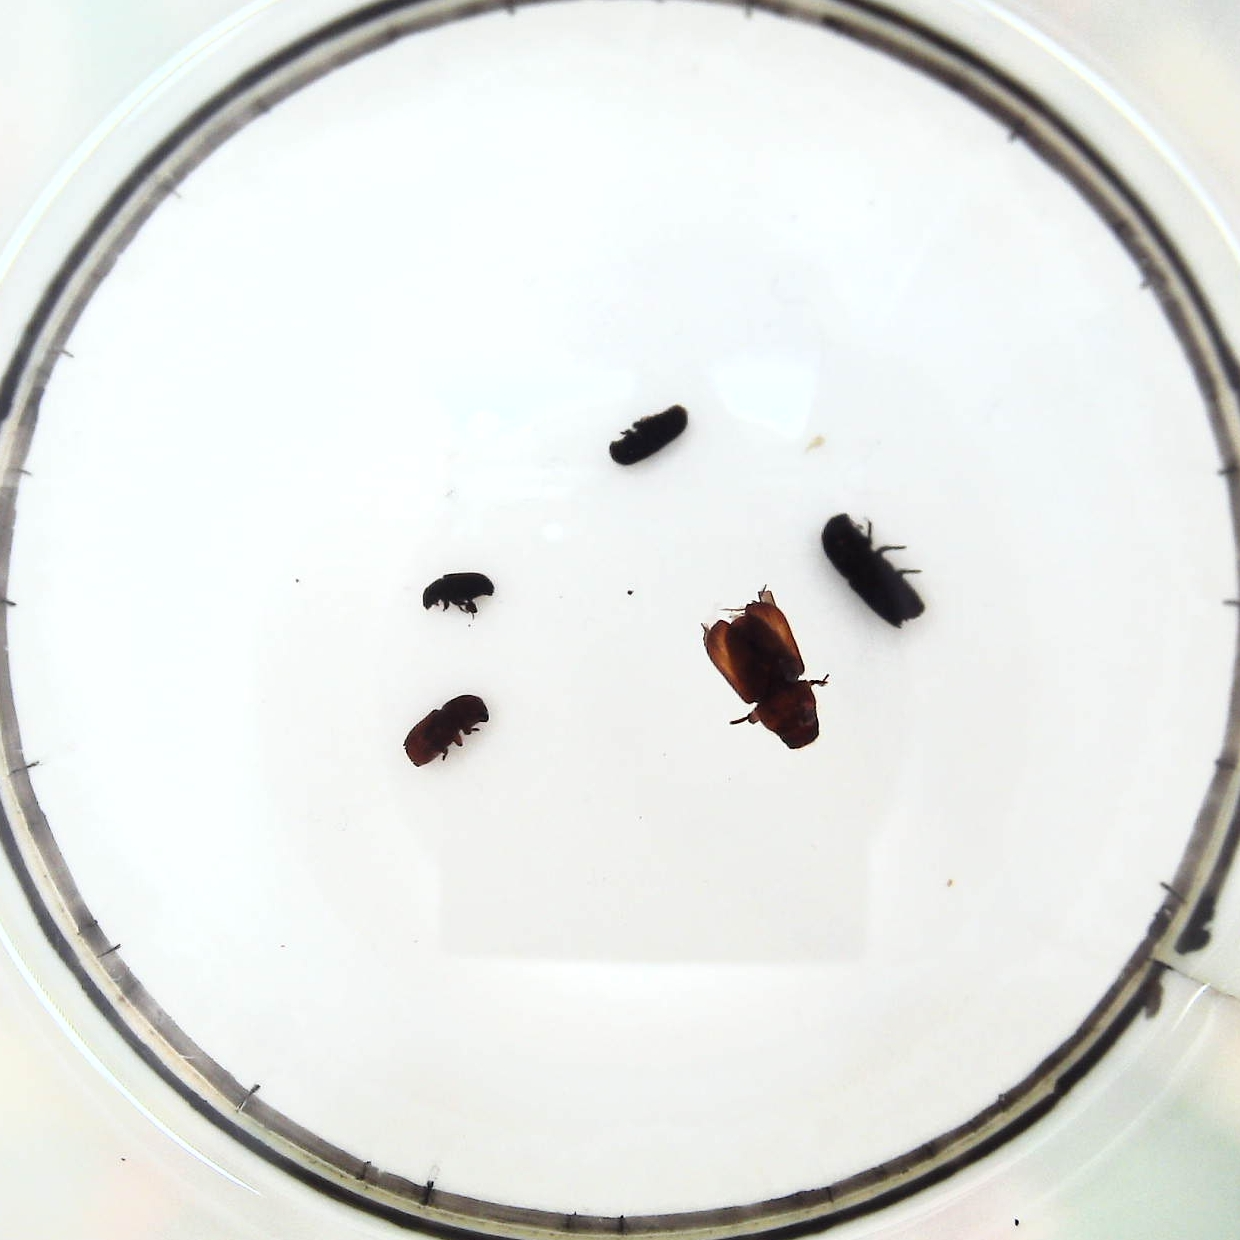Boerner: (821, 512, 924, 629)
Leconte: (695, 590, 819, 749)
Linnaeus: (403, 692, 488, 766)
armandi: (610, 403, 686, 468)
coleoptera: (422, 570, 492, 615)
